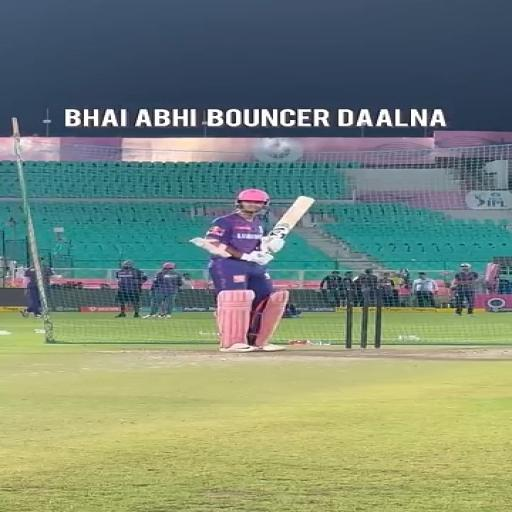Cricket bat: (269, 197, 313, 237)
